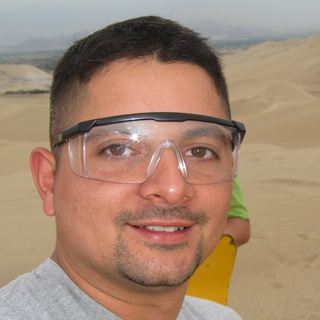eye: (93, 138, 144, 161), (178, 141, 222, 166)
